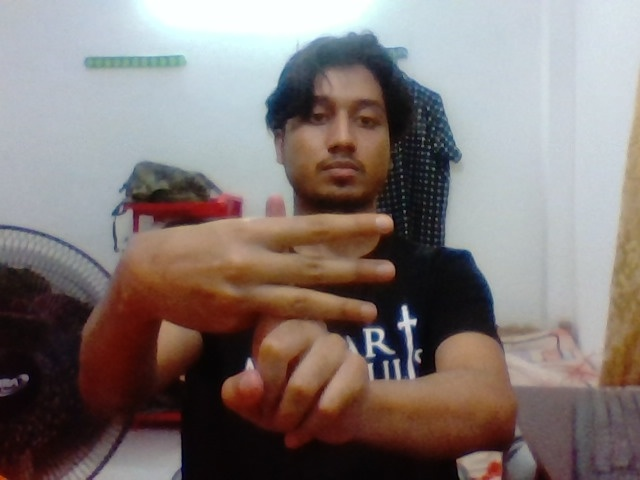E: (203, 194, 403, 415)
